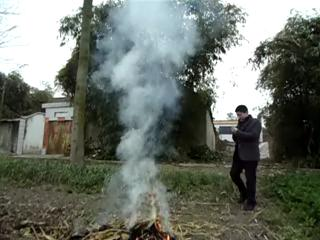yanwu: (97, 1, 200, 217)
